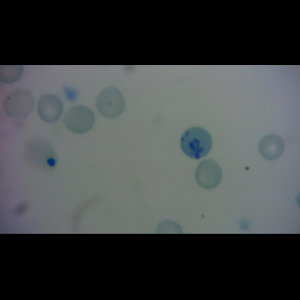aggregate reticulocyte: (179, 126, 214, 160)
erythrocyte: (60, 104, 97, 135), (194, 158, 224, 190), (36, 93, 65, 124), (257, 133, 286, 162)
punctate reticulocyte: (2, 87, 36, 119), (95, 85, 126, 119)
